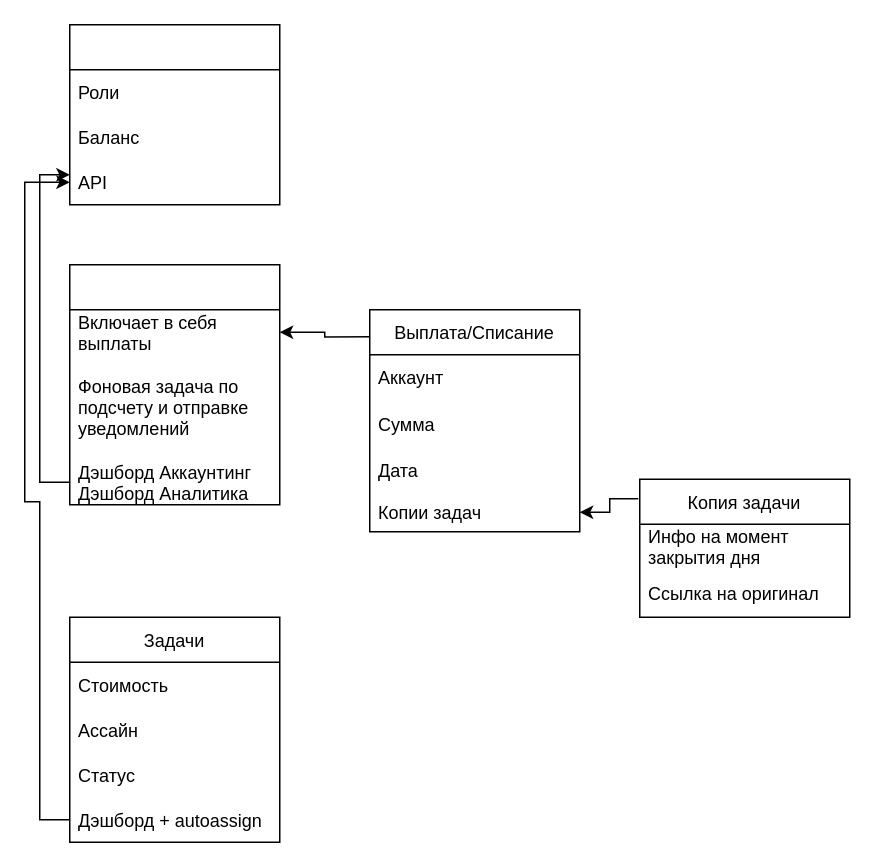
Image size: 875x867. Some labels were removed from this diagram. Here are the shapes that lost their labels. From the top down, the box of each, then its label:
(68, 23, 280, 205): Авторизация
(68, 263, 280, 505): Отчеты
